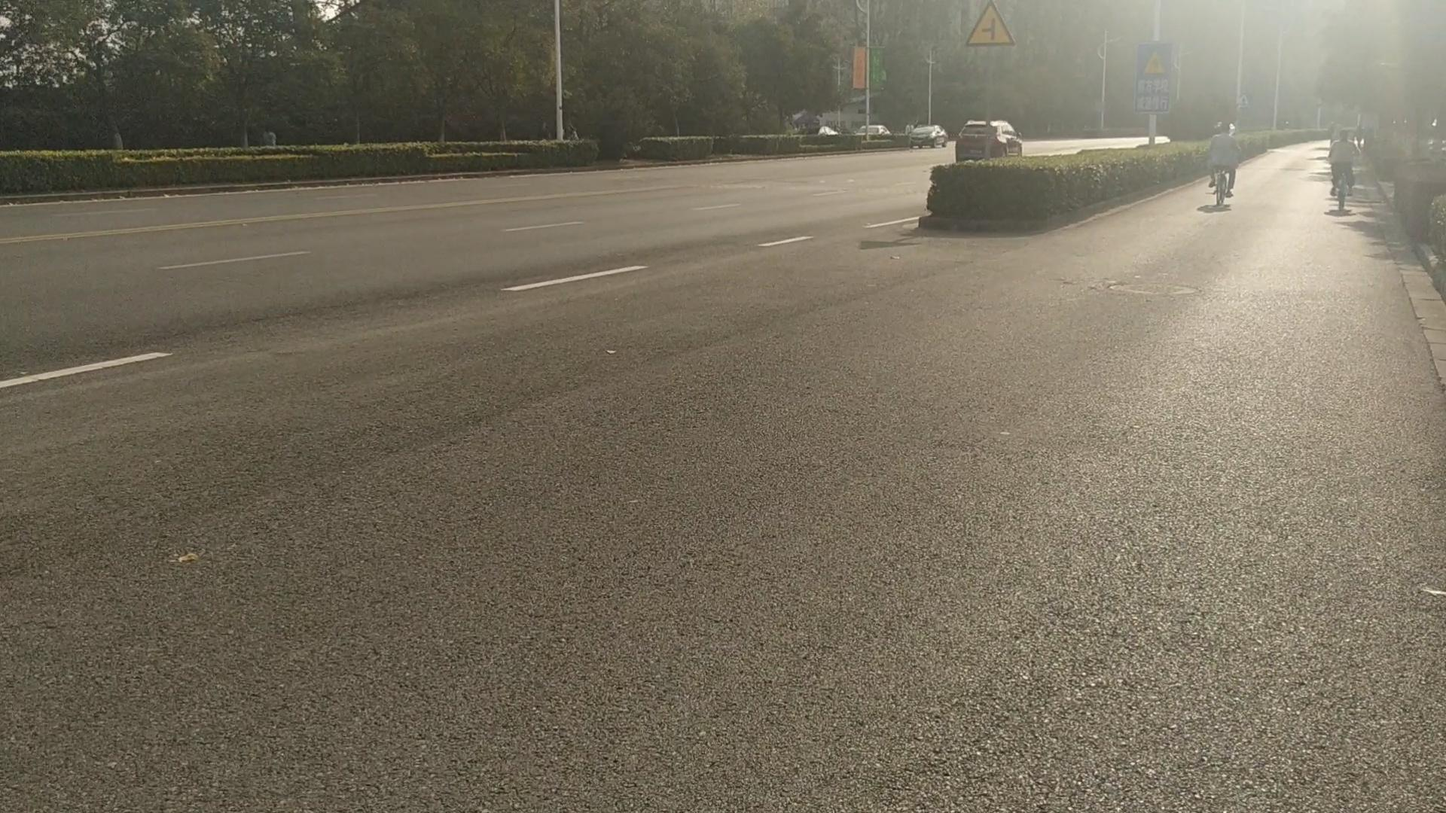car: (1397, 152, 1446, 259), (956, 120, 1021, 161), (908, 122, 950, 148), (855, 122, 893, 139)
